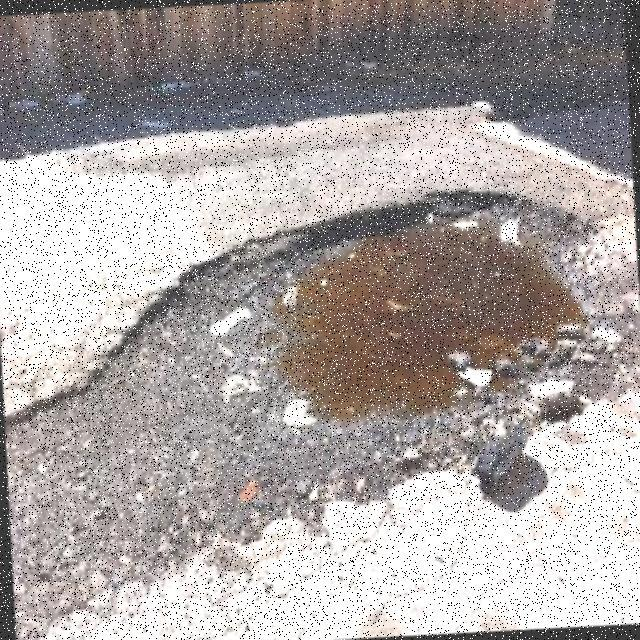Pothole: (6, 191, 640, 640)
